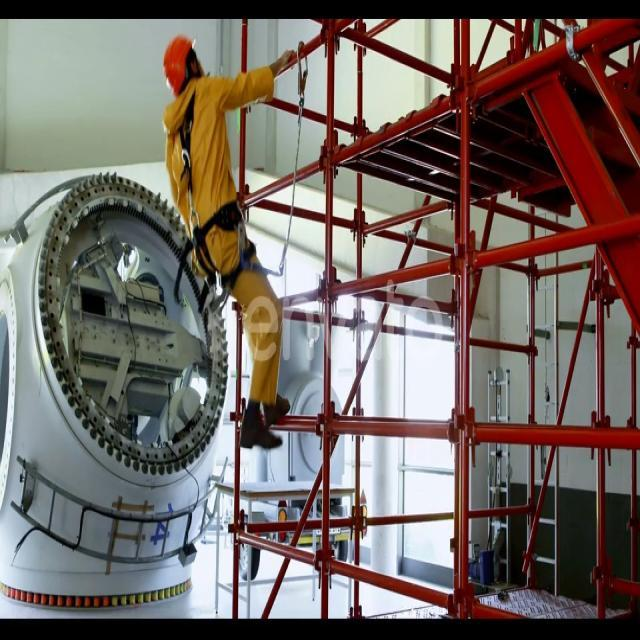belt: (172, 87, 268, 306)
